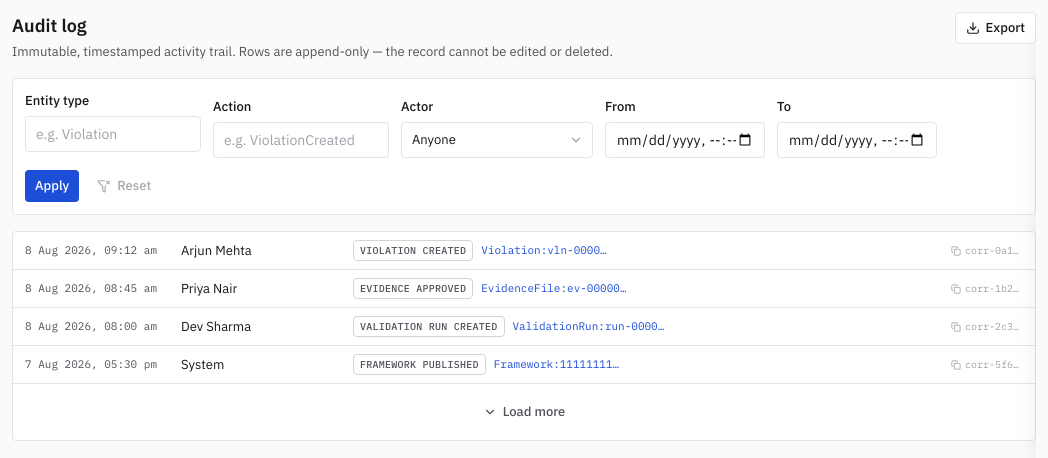
Scenario: AuditView (§9.12) › keeps Reset enabled after applying filters and restores the full stream
Expected: the text "Violation Created" is shown, [353, 240, 473, 261]
Type "EvidenceFile" into the field labelled "Entity type" at (113, 134), box [25, 116, 201, 152]
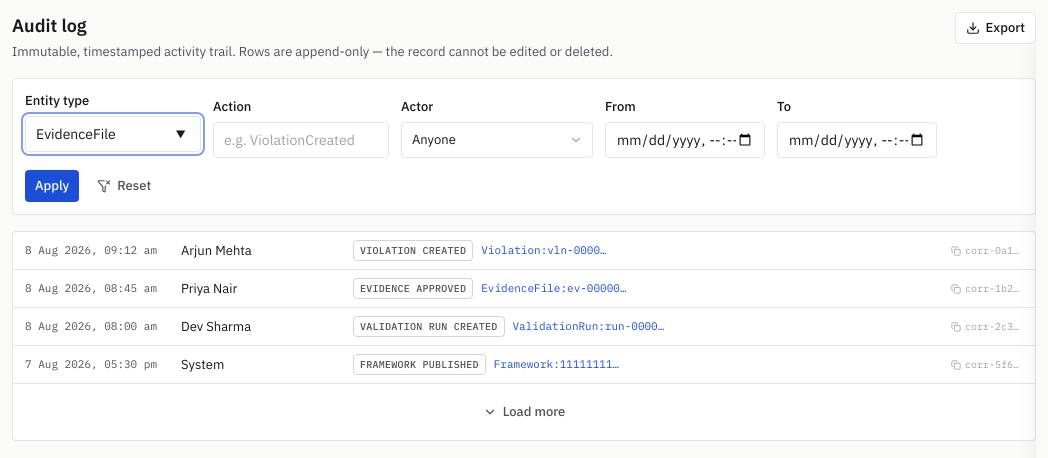
Click the button "Apply" at (52, 186), box [25, 170, 79, 202]
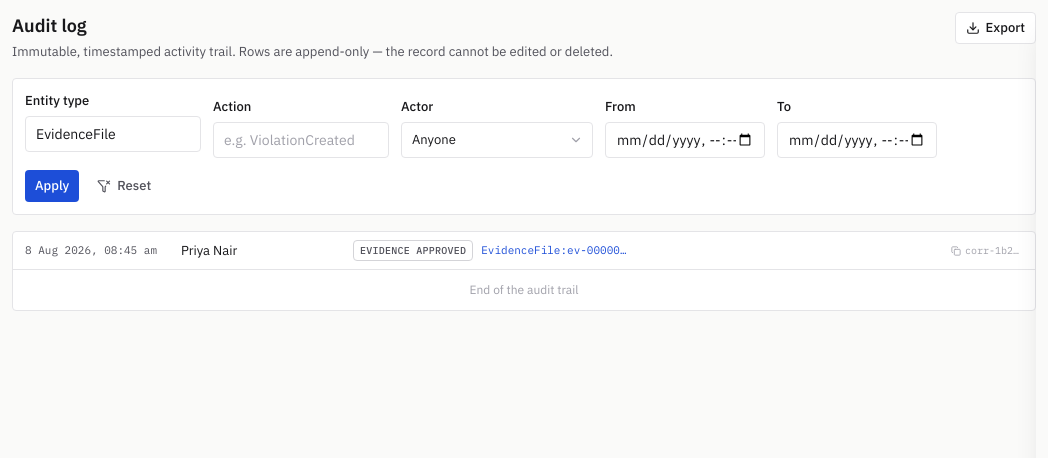
Expected: the text "Evidence Approved" is shown, [353, 240, 473, 261]
Result: the button "Reset" is enabled
Click the button "Reset" at (124, 186), box [87, 170, 161, 202]
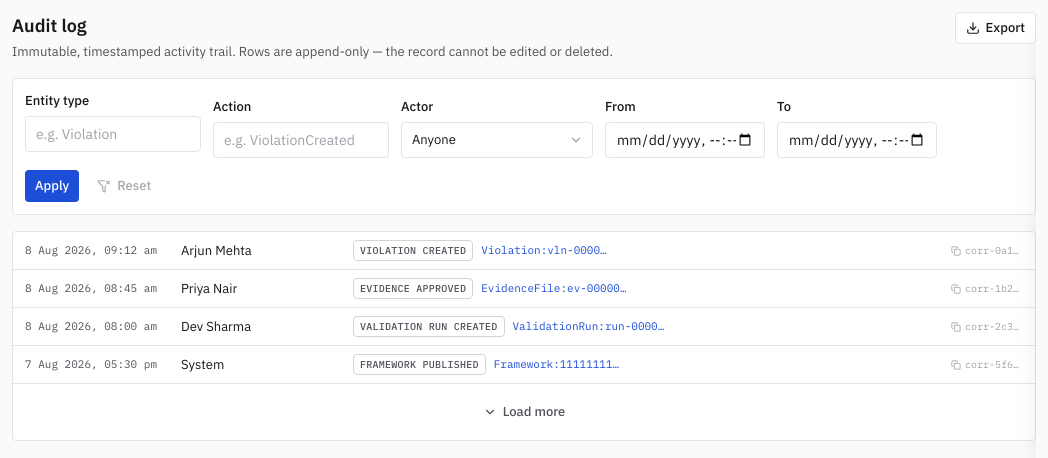
Result: the text "Violation Created" is shown at [353, 240, 473, 261]
